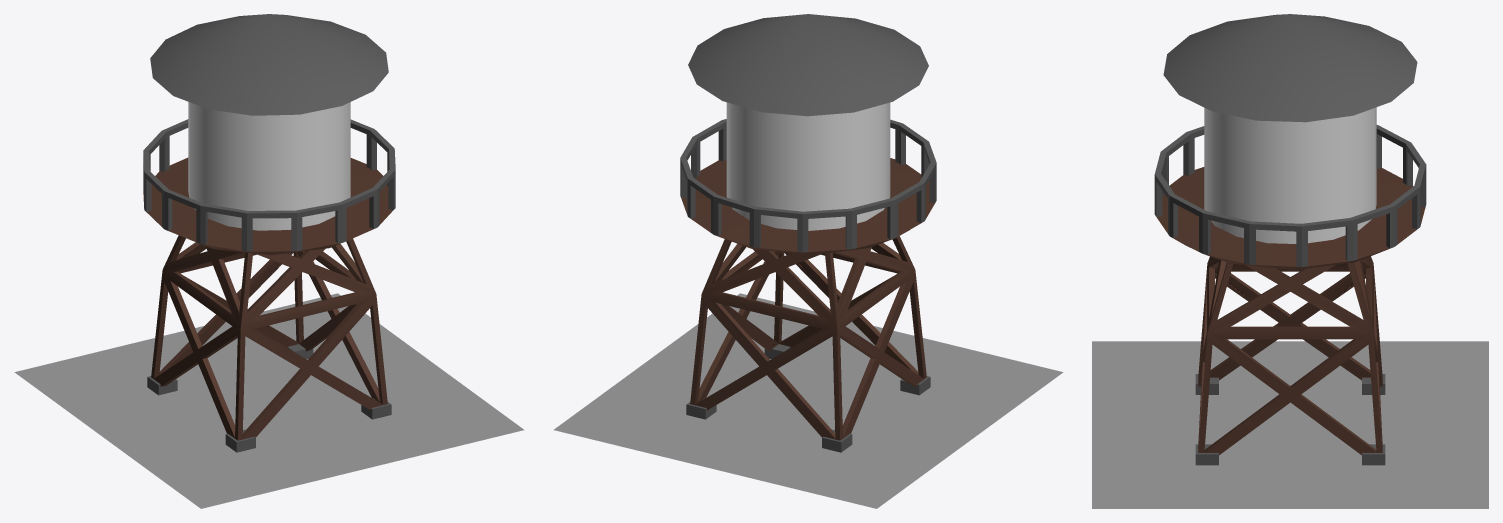
The model's file is 1x1_Water.col.glb.
The picture shows the model from 3 angles, left to right: view 1: azimuth 30°, elevation 25°; view 2: azimuth 150°, elevation 25°; view 3: azimuth 270°, elevation 25°; orthographic projection. The views are drawn at different scales.
Visible parts, largest first — view 1: 1x1_Water.col; view 2: 1x1_Water.col; view 3: 1x1_Water.col.
Part boxes in pixels (x1,y1,x2,y2): 1x1_Water.col: (14, 14, 523, 508); 1x1_Water.col: (554, 14, 1063, 508); 1x1_Water.col: (1092, 14, 1488, 508).
Size of the model in its own units: 20 by 22.91 by 20.
